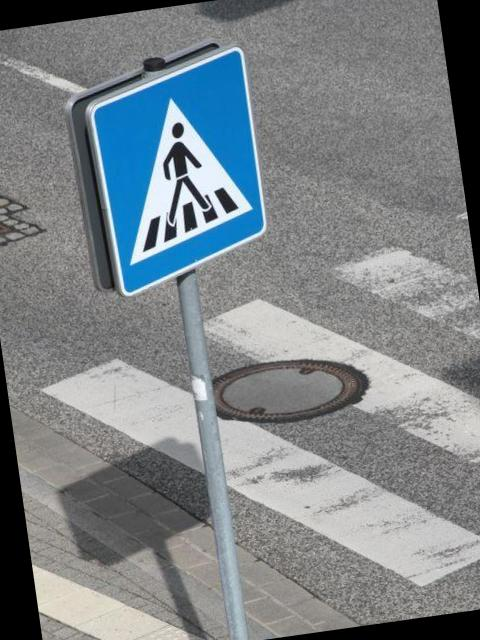crosswalk-sign: (78, 43, 278, 300)
